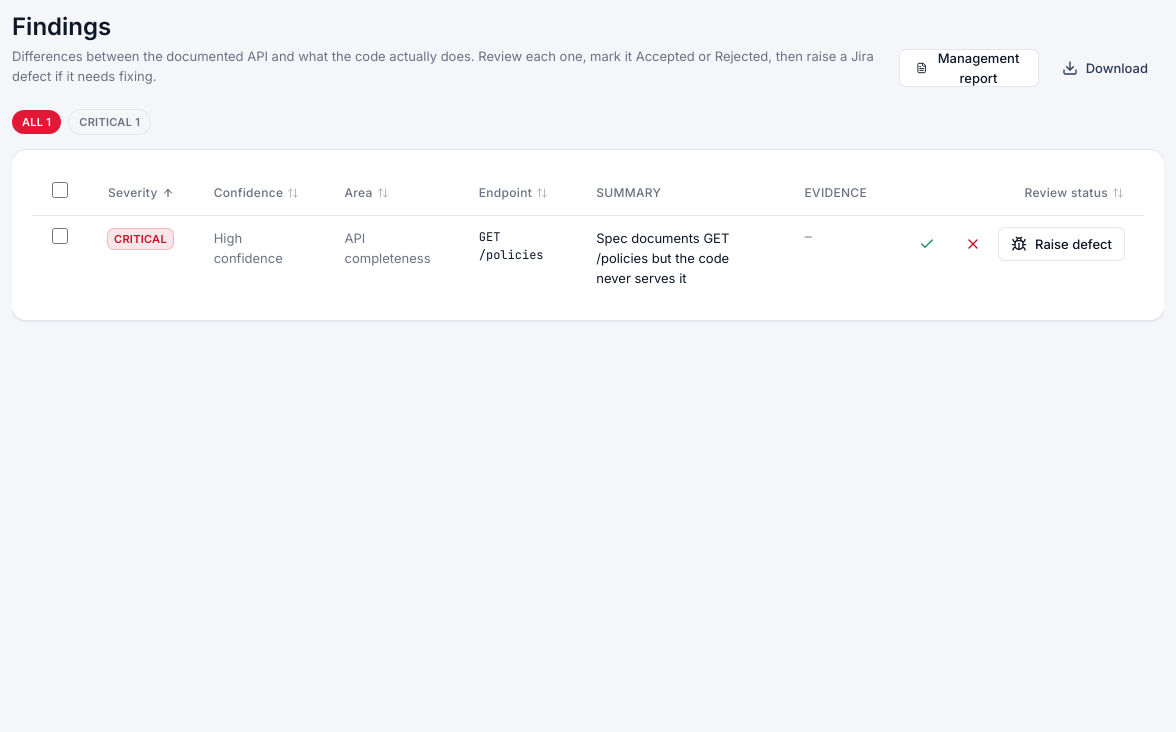
it: Findings disposition › accepts a finding (PATCH) and shows the success toast
The width and height of the screenshot is (1176, 732).
Expected: the text "Spec documents GET /policies but the code never serves it" is shown, [596,230,729,286]
Click the button named "Accept — this is a real difference".
click(927, 244)  # box [907,228,947,260]
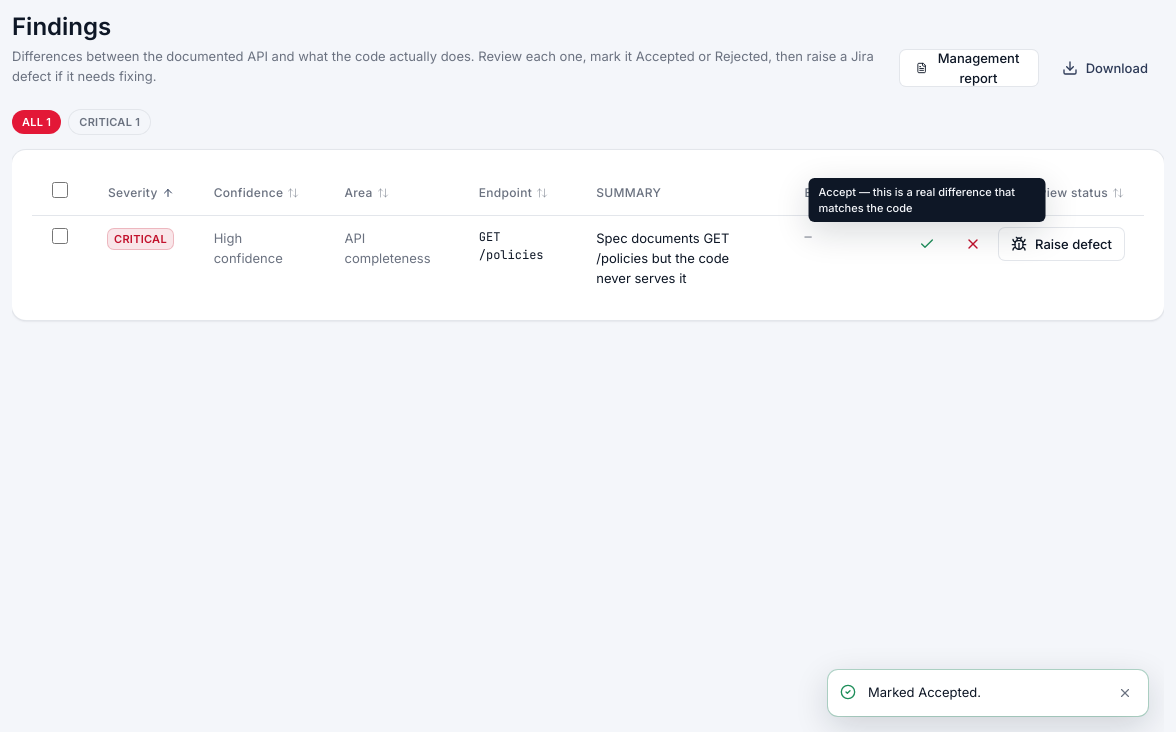
Now the text "Marked Accepted." is shown, box [868,684,981,700]
